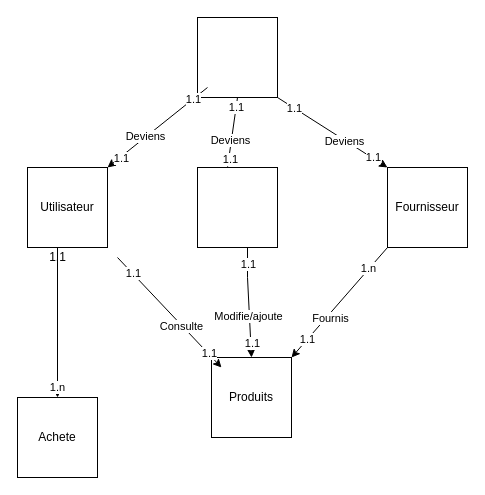
Some shapes in this 485 by 495 pixel diagram are drawn without their labels. Here are the shapes that lost their labels. From the top down, the box of each, then its label:
(196, 16, 278, 98): Personnes
(196, 166, 278, 248): Administrateur
